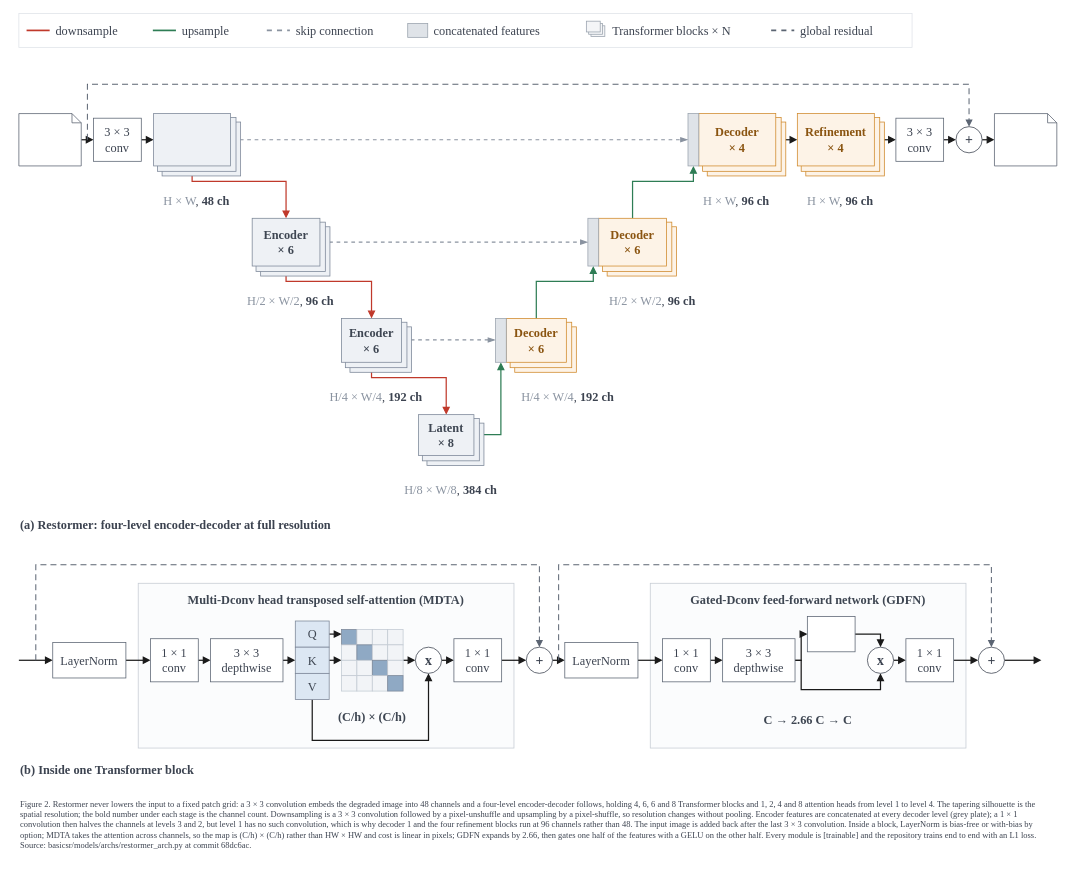
Image size: 1071x877. Some labels were removed from this diagram. Here are the shapes that lost their labels. From the top down, the centre of each, then its label:
the point at 49,139: Degraded 3 × H × W
the point at 192,139: Encoder × 4
the point at 1025,139: Restored 3 × H × W
the point at 831,634: GELU
